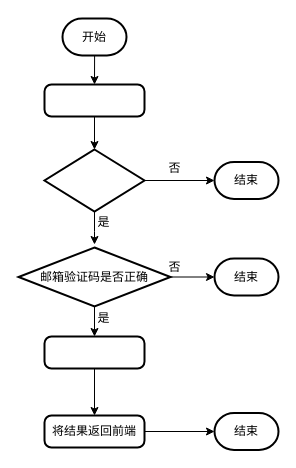
Some shapes in this 296 by 468 pixel diagram are drawn without their labels. Each missing label, with the centre of its shape:
"jwt是否有效" goes at pixel 94 180.
"将新密码加密后写入数据库" goes at pixel 94 352.
"用户请求重置密码" goes at pixel 94 100.
